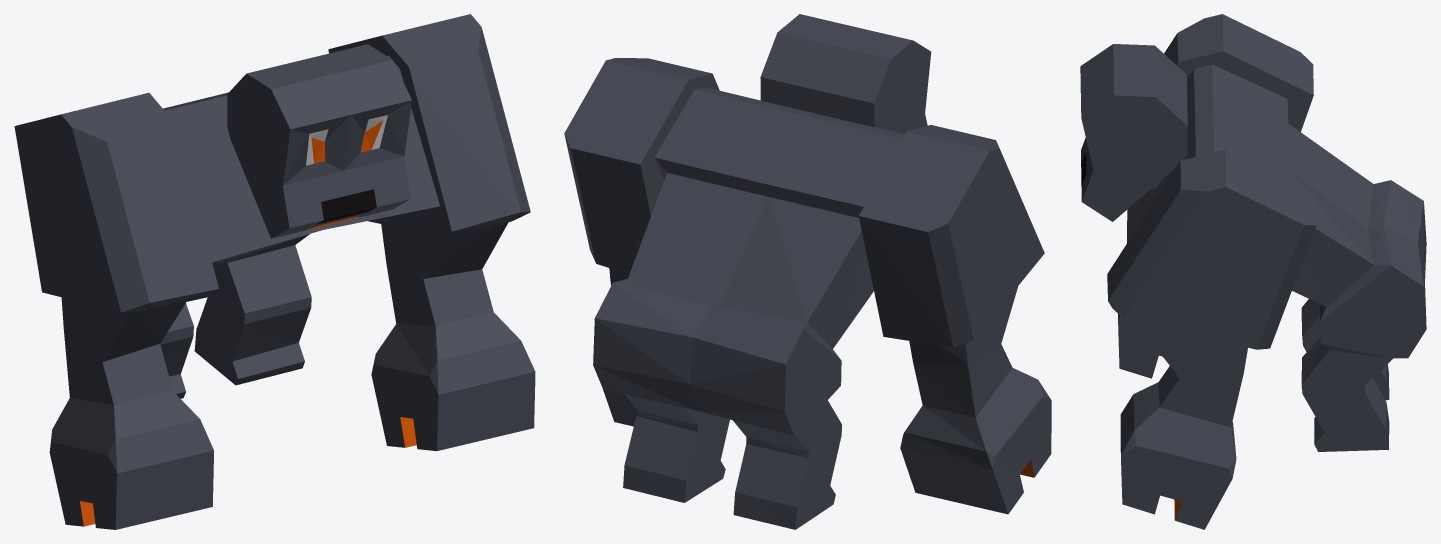
The model's file is kong_000012.obj.
3 views of the same model, side by side, from view 1: azimuth 30°, elevation 25°; view 2: azimuth 150°, elevation 25°; view 3: azimuth 270°, elevation 25° (orthographic). The views are drawn at different scales.
Visible parts, largest first — view 1: Cube; view 2: Cube; view 3: Cube.
Boxes of the visible parts, left/top/right/bottom form: Cube: left=14, top=14, right=535, bottom=529; Cube: left=564, top=14, right=1051, bottom=529; Cube: left=1080, top=14, right=1426, bottom=529.
Bounding box in the file's own units: 5.85 × 5.78 × 4.85.
1 material, 1 textured.
